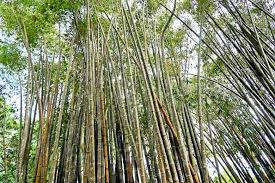bamboo: (17, 8, 211, 177), (220, 11, 271, 173)
